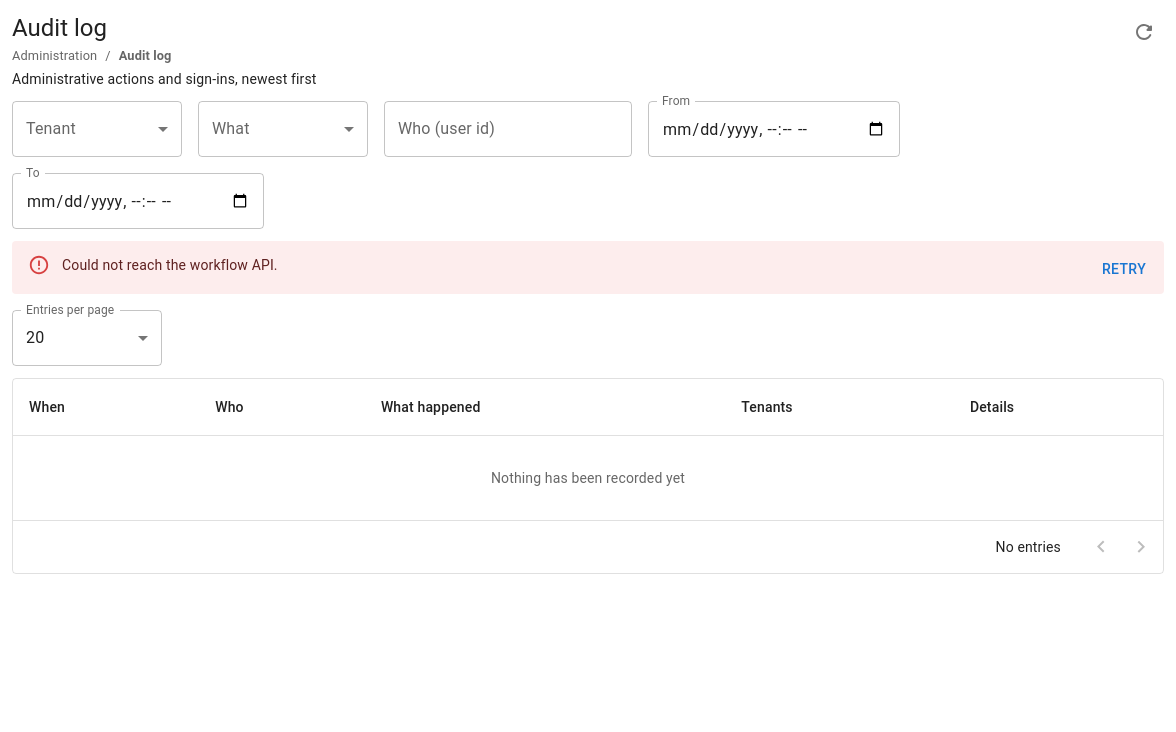
Scenario: AuditPage › shows a message and lets you retry when the log cannot be loaded
The width and height of the screenshot is (1176, 732).
Check: the text "Could not reach the workflow API." is shown, box [62, 257, 278, 273]
Click the button "Retry". click: {"x": 1124, "y": 269}
box: [1092, 251, 1156, 288]
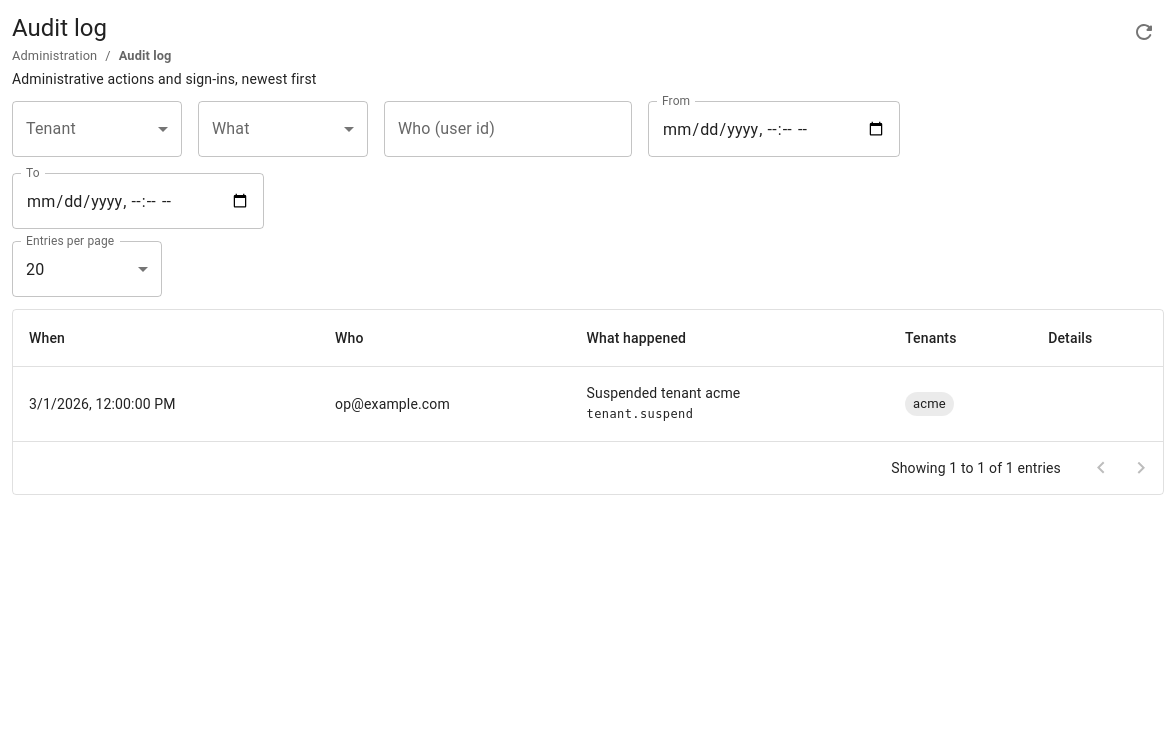
Check: the text "Suspended tenant acme" is shown, box [586, 385, 740, 401]
